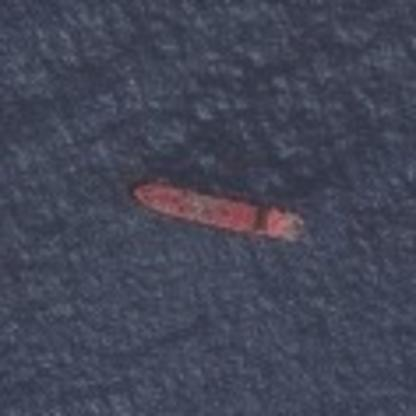ship: (123, 176, 315, 249)
